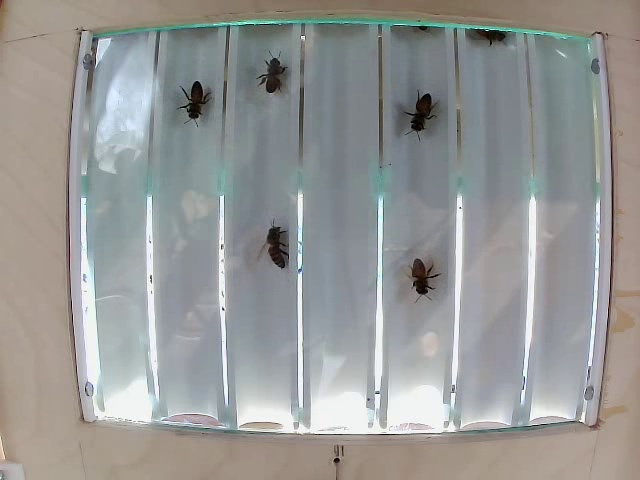bee: (254, 223, 297, 272), (404, 85, 439, 138), (183, 89, 219, 132), (398, 243, 431, 286), (261, 54, 288, 99)
